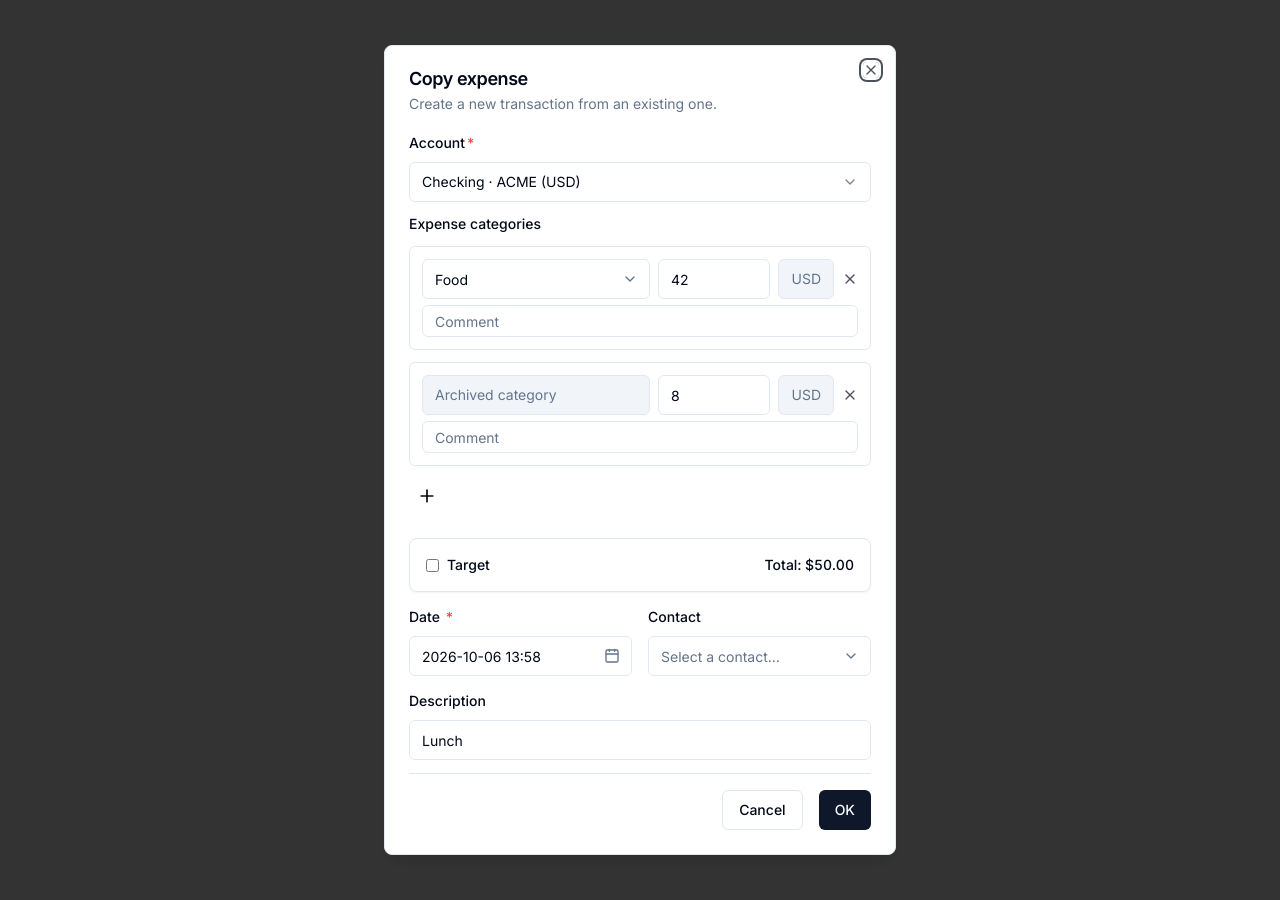
Scenario: CopyTransactionDialog › shows a destructive banner for a generic error
Check: the dropdown named "account" is shown, box [409, 162, 871, 202]
Click the button "OK" at (845, 810), box [819, 790, 871, 830]
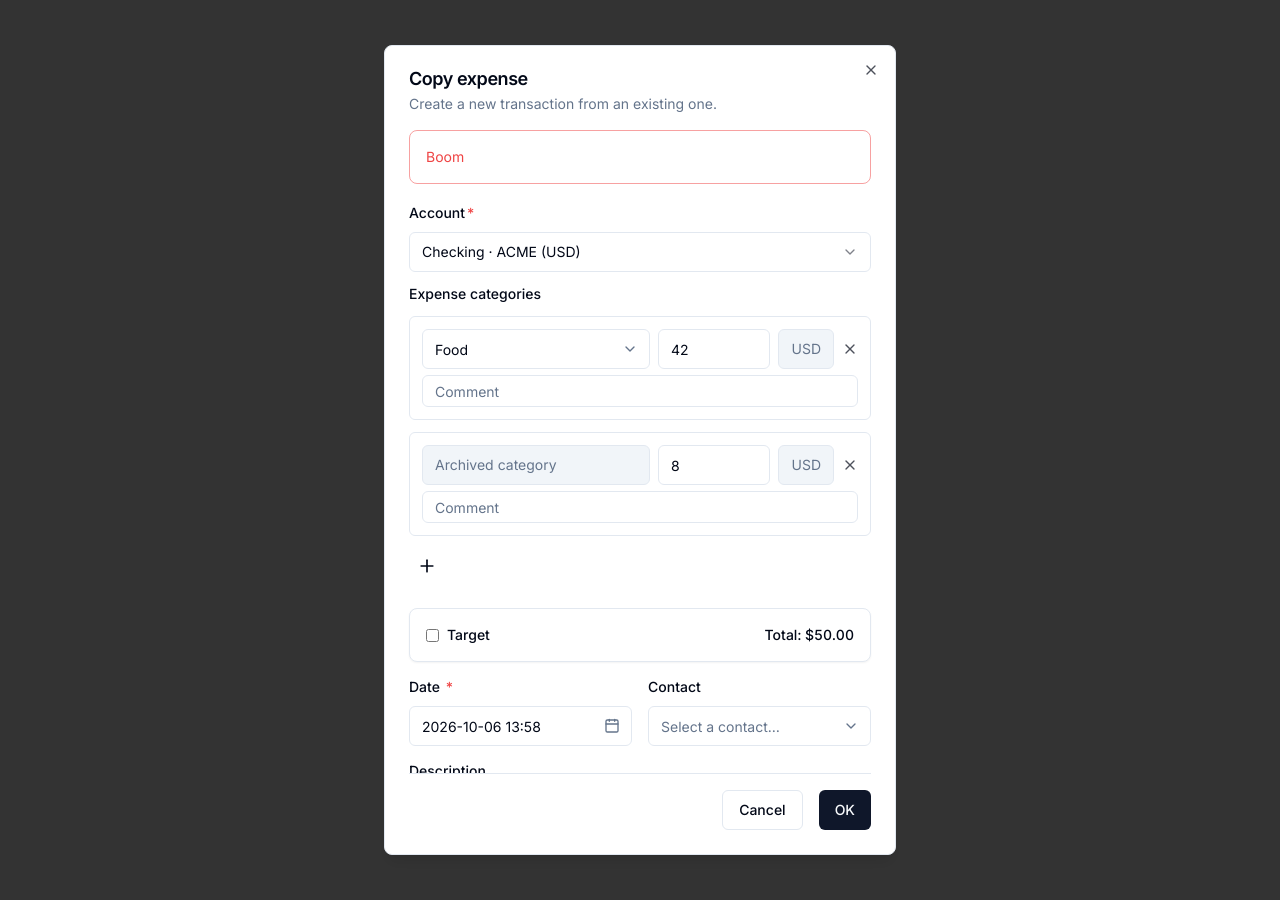
Check: the dialog is shown, box [384, 45, 896, 855]
Check: the message "Boom" is shown, box [409, 130, 871, 184]
Check: the text "Boom" is shown, box [426, 148, 464, 165]
